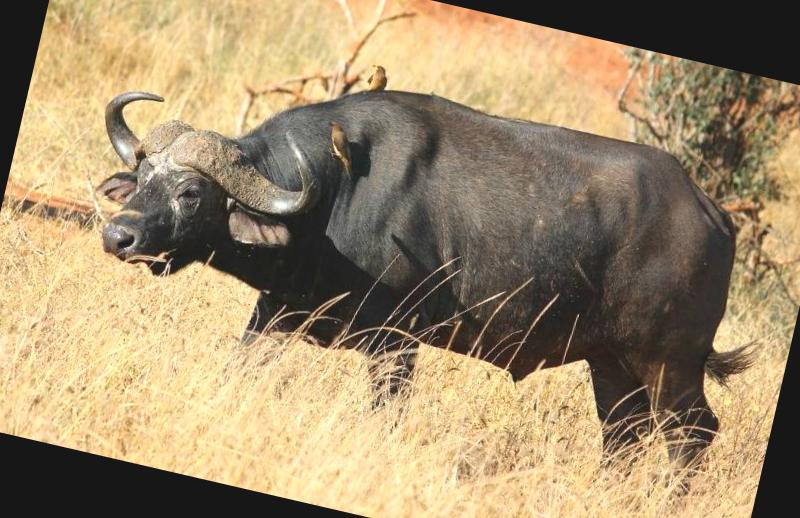Buffalo: (4, 0, 763, 518)
